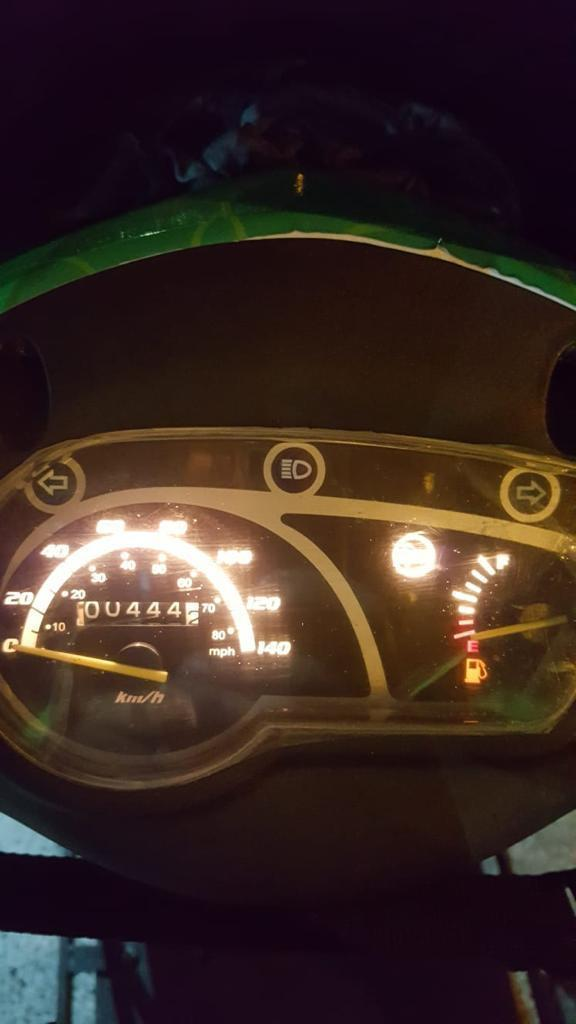0: (84, 600, 100, 620), (105, 599, 120, 618)
2: (187, 609, 201, 627)
4: (166, 599, 182, 620), (125, 599, 141, 619), (146, 599, 161, 618)
odometer: (73, 597, 202, 631)
